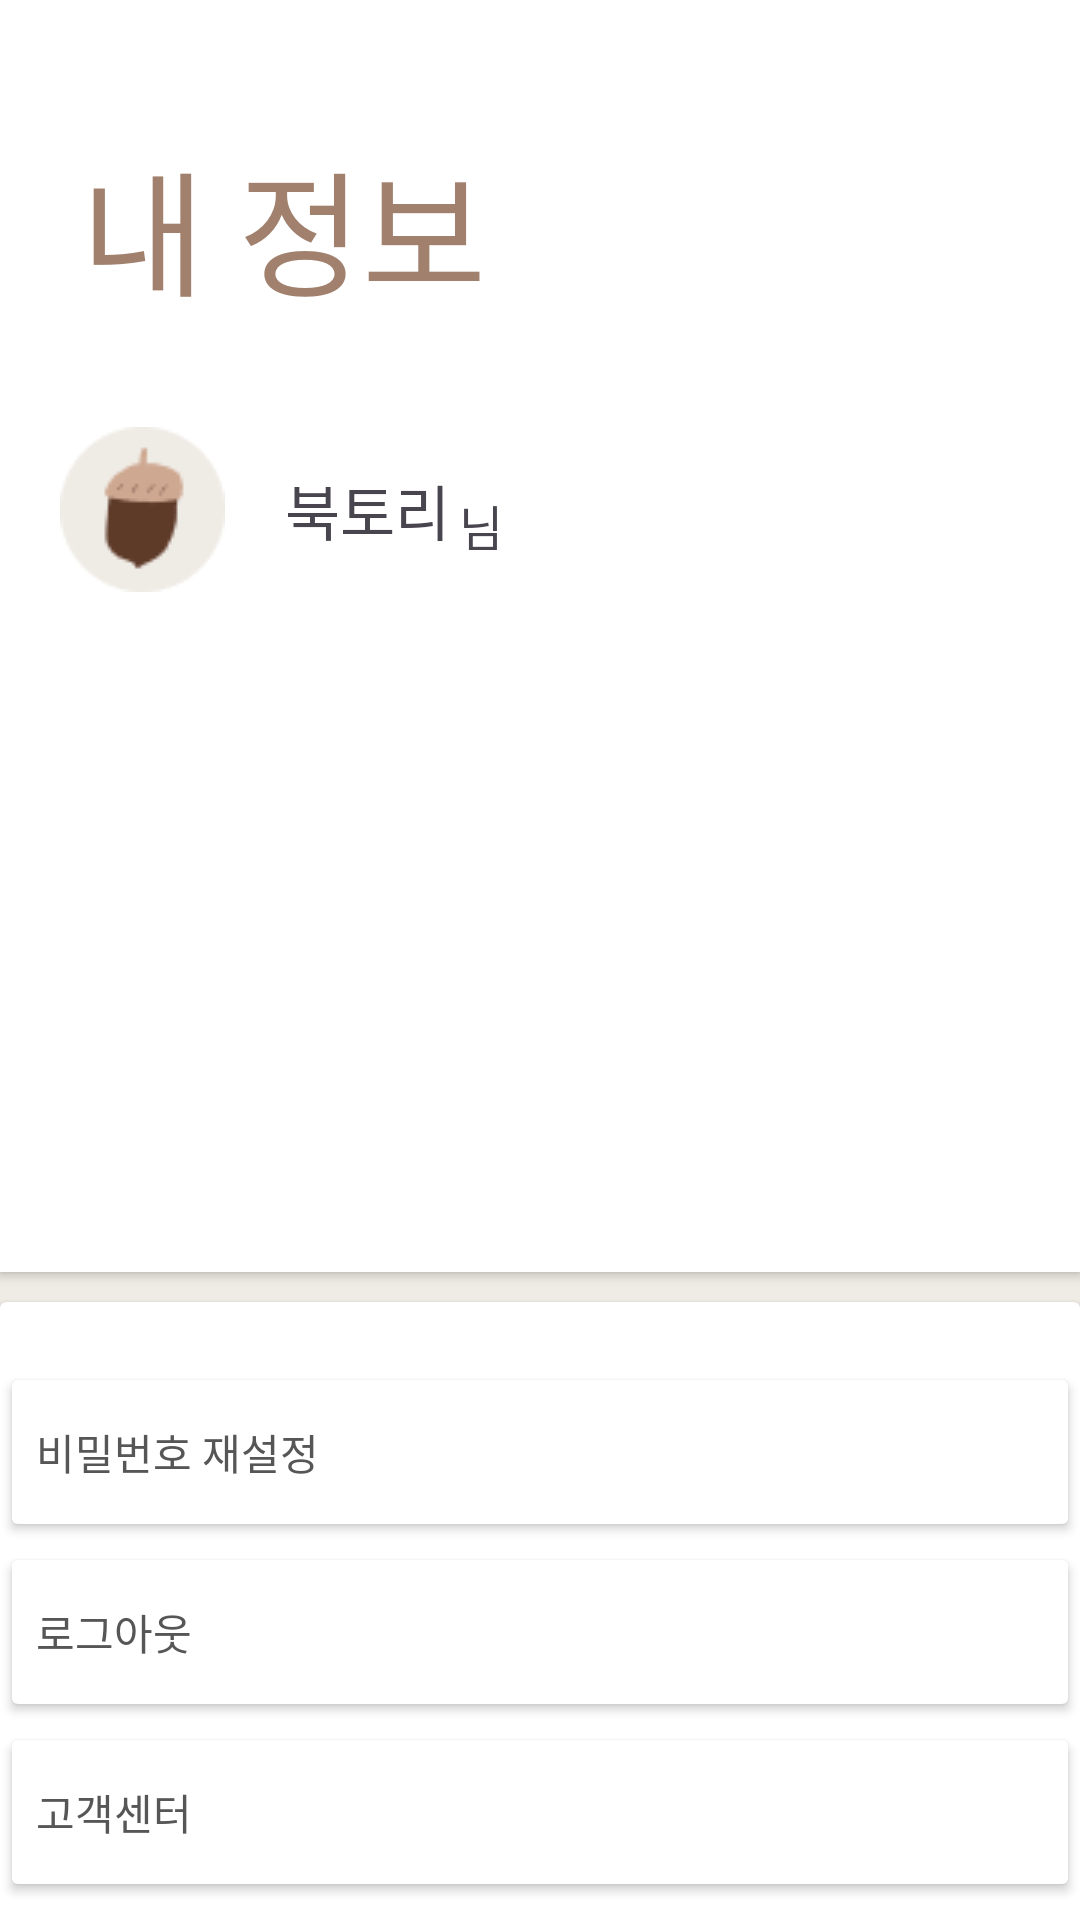

Named icons in this screenshot (1080×1920) and their bounding boxes, region(x1, y1, x2, y2):
mypage profill: region(60, 427, 225, 592)
